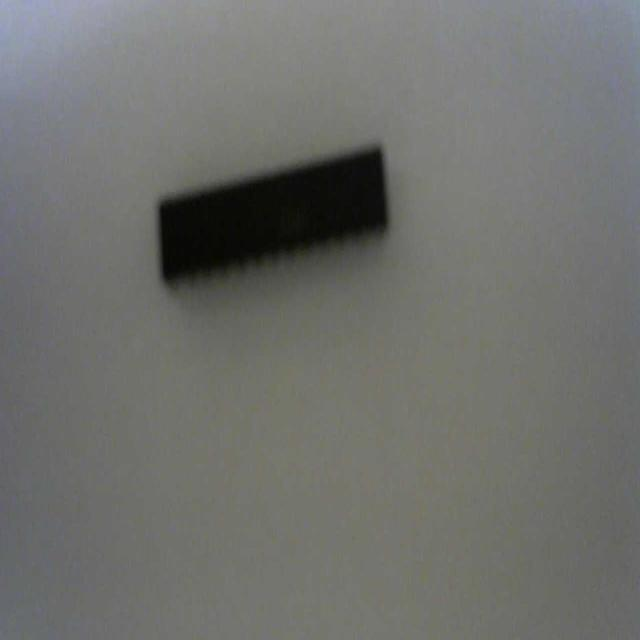atmega: (155, 138, 391, 290)
